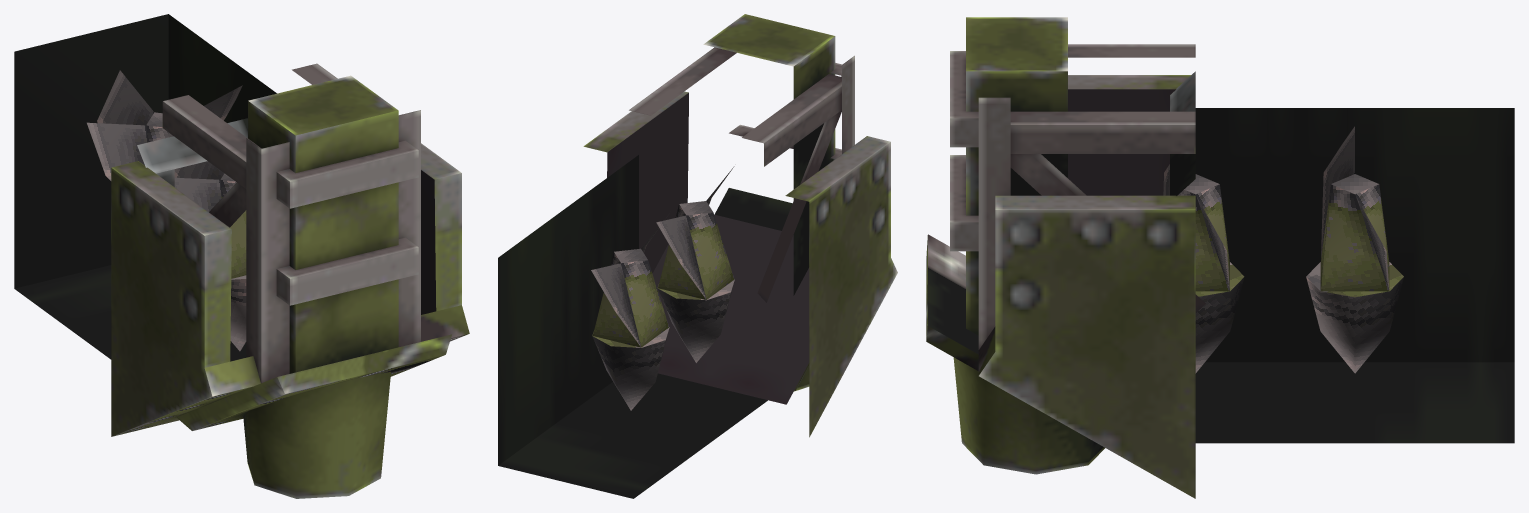
The model's file is rocket_block.glb.
3 views of the same model, side by side, from view 1: azimuth 30°, elevation 25°; view 2: azimuth 150°, elevation 25°; view 3: azimuth 270°, elevation 25° (orthographic). The views are drawn at different scales.
Visible parts, largest first — view 1: rocket_block.rocket_block-MeshNodes["rocket-block"], parts.rocket_mesh-MeshNodes["rocket_mesh_body"] (×2), parts.rocket_mesh-MeshNodes["rocket_mesh_cap"]; view 2: rocket_block.rocket_block-MeshNodes["rocket-block"], parts.rocket_mesh-MeshNodes["rocket_mesh_body"] (×2), parts.rocket_mesh-MeshNodes["rocket_mesh_cap"] (×2); view 3: rocket_block.rocket_block-MeshNodes["rocket-block"], parts.rocket_mesh-MeshNodes["rocket_mesh_body"] (×2), parts.rocket_mesh-MeshNodes["rocket_mesh_cap"] (×2).
Boxes of the visible parts, bbox=[...] form: rocket_block.rocket_block-MeshNodes["rocket-block"]: bbox=[14, 14, 469, 498]; parts.rocket_mesh-MeshNodes["rocket_mesh_body"] (×2): bbox=[87, 70, 246, 278]; parts.rocket_mesh-MeshNodes["rocket_mesh_cap"]: bbox=[230, 275, 246, 351]; rocket_block.rocket_block-MeshNodes["rocket-block"]: bbox=[498, 14, 897, 498]; parts.rocket_mesh-MeshNodes["rocket_mesh_body"] (×2): bbox=[591, 166, 734, 347]; parts.rocket_mesh-MeshNodes["rocket_mesh_cap"] (×2): bbox=[592, 279, 734, 410]; rocket_block.rocket_block-MeshNodes["rocket-block"]: bbox=[926, 17, 1514, 498]; parts.rocket_mesh-MeshNodes["rocket_mesh_body"] (×2): bbox=[1163, 126, 1389, 291]; parts.rocket_mesh-MeshNodes["rocket_mesh_cap"] (×2): bbox=[1195, 262, 1403, 373].
Bounding box in the file's own units: 1 × 1.38 × 1.84.
2 materials, 2 textured.
